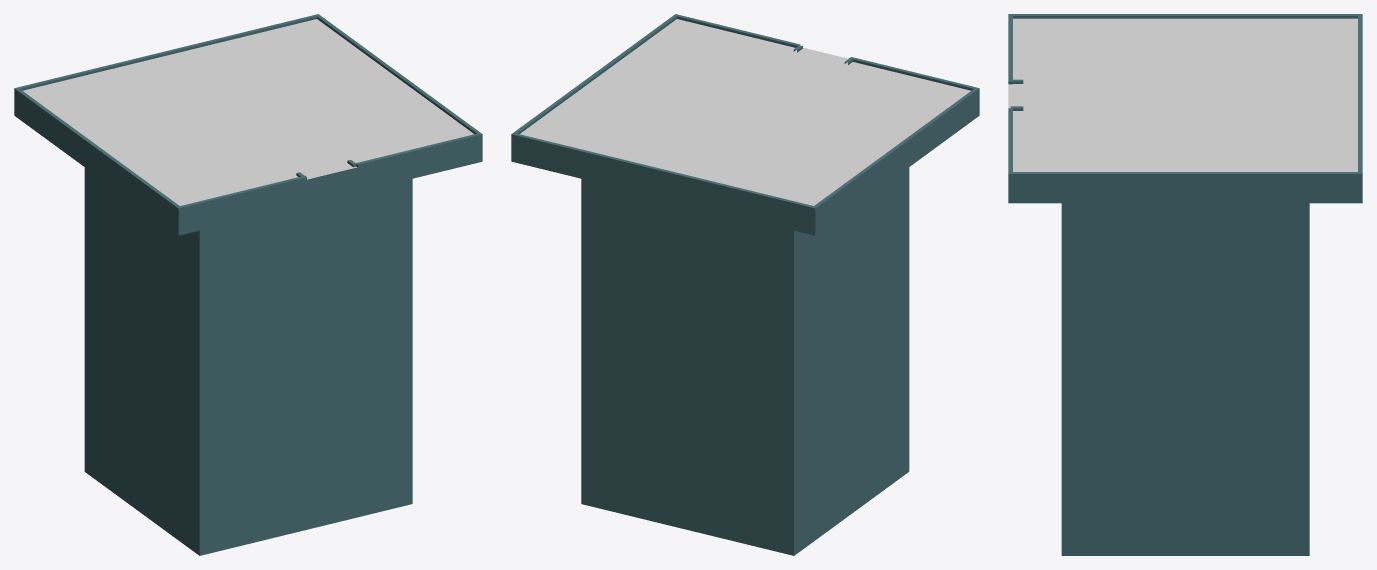
File: PlatformKare.fbx
The picture shows the model from 3 angles, left to right: view 1: azimuth 30°, elevation 25°; view 2: azimuth 150°, elevation 25°; view 3: azimuth 270°, elevation 25°; orthographic projection. The views are drawn at different scales.
Visible parts, largest first — view 1: EndPlatform; view 2: EndPlatform; view 3: EndPlatform.
Boxes of the visible parts, x1,y1,x2,y2 form: EndPlatform: [14, 14, 482, 555]; EndPlatform: [511, 14, 979, 555]; EndPlatform: [1008, 14, 1362, 555].
Size of the model in its own units: 2560 by 3029 by 2395.
